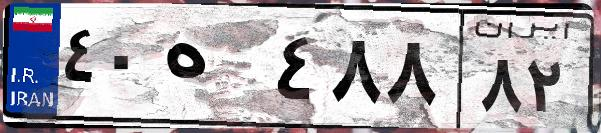0: (110, 28, 158, 98)
2: (525, 38, 570, 115)
4: (270, 28, 330, 110), (57, 26, 110, 100)
8: (385, 28, 445, 110), (330, 28, 385, 110), (475, 38, 525, 113)
ه: (158, 20, 270, 120)
